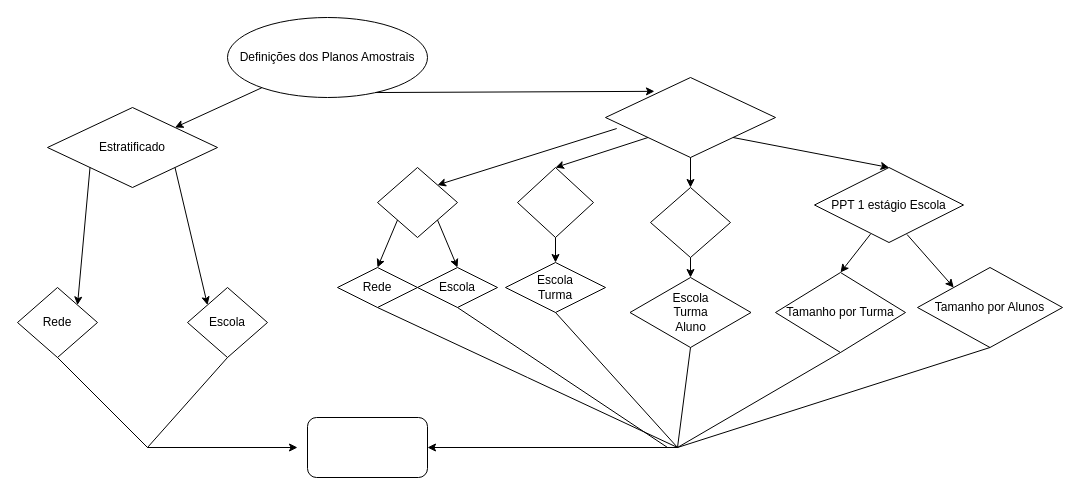
This 1080x495 diagram has some shape labels left out. The centre of each missing label's shape, as x and y in pixels:
1 Estágio: the point at 417,202
2 Estágio: the point at 555,202
3 Estágio: the point at 690,222
Conglomerado: the point at 690,117
Estimativas e Demais Métricas: the point at 367,447
